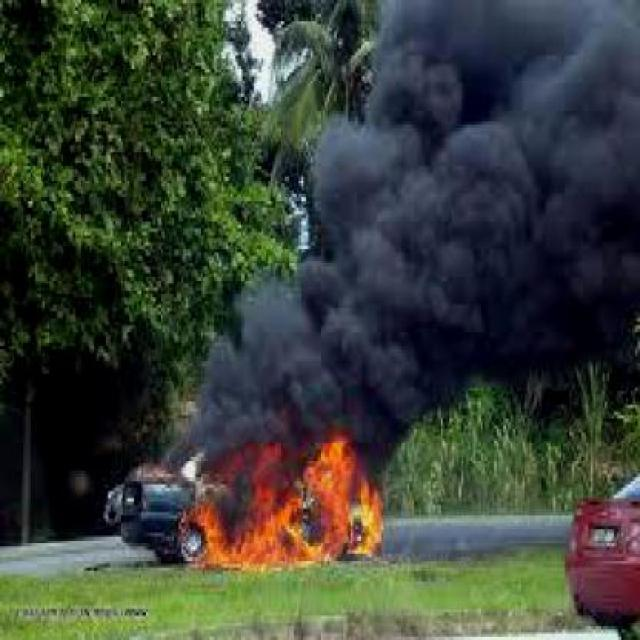Fire: (176, 412, 392, 571)
Smoke: (183, 0, 640, 432)
